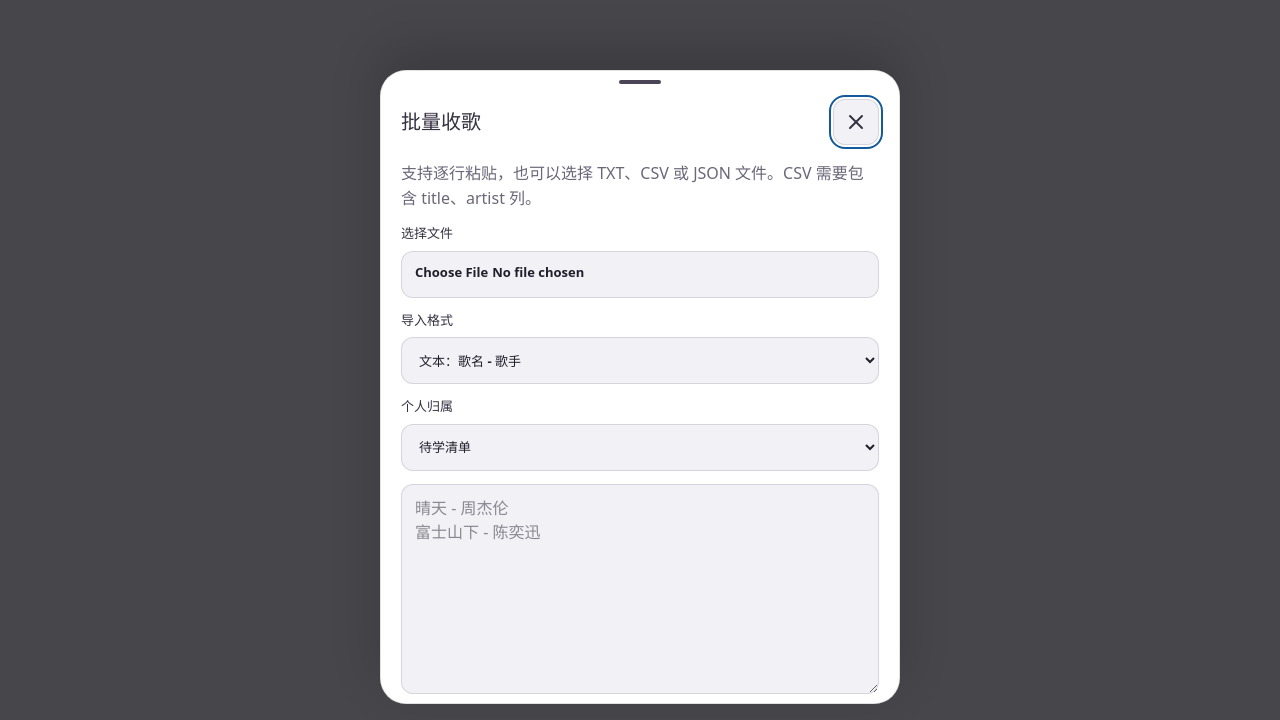
Test case: 基础界面组件 › 批量导入展示异步任务完成结果
The image size is (1280, 720).
Type "晴天 - 周杰伦" into the text box with class "import-area" at (640, 588), box [401,484,879,694]
(page scrolled)
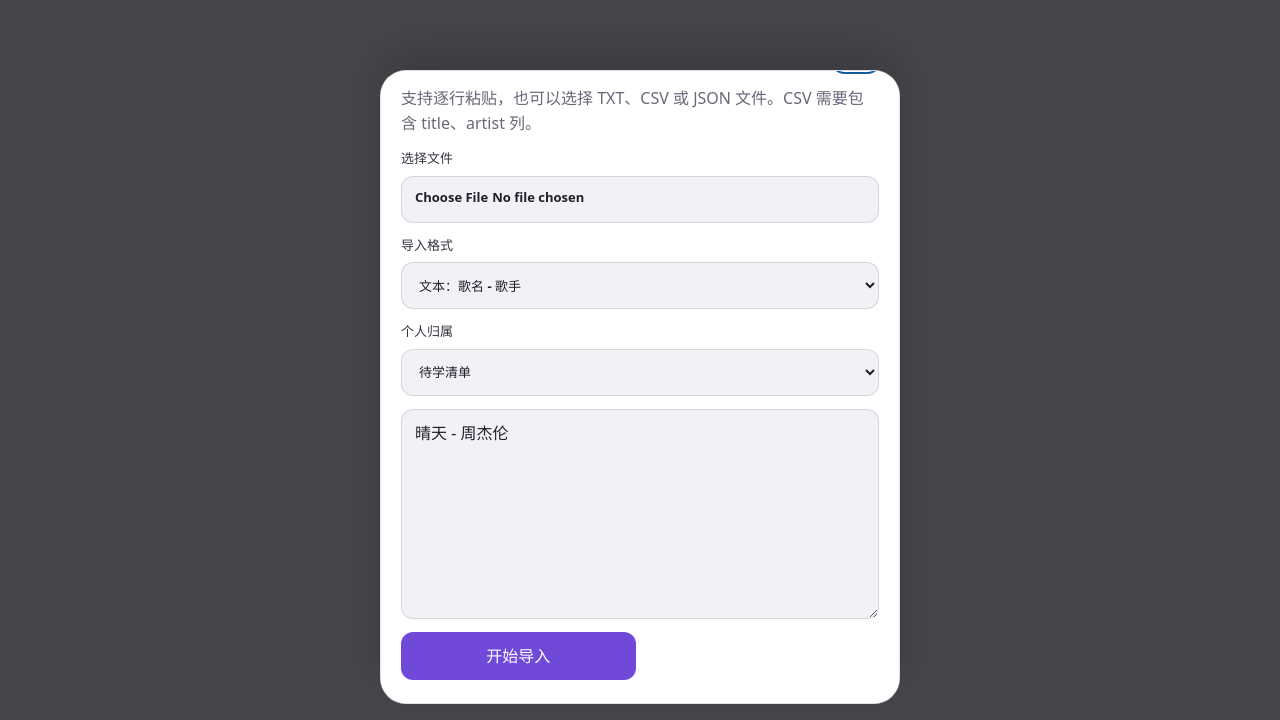
Click the button "开始导入" at (518, 656), box [401,632,636,680]
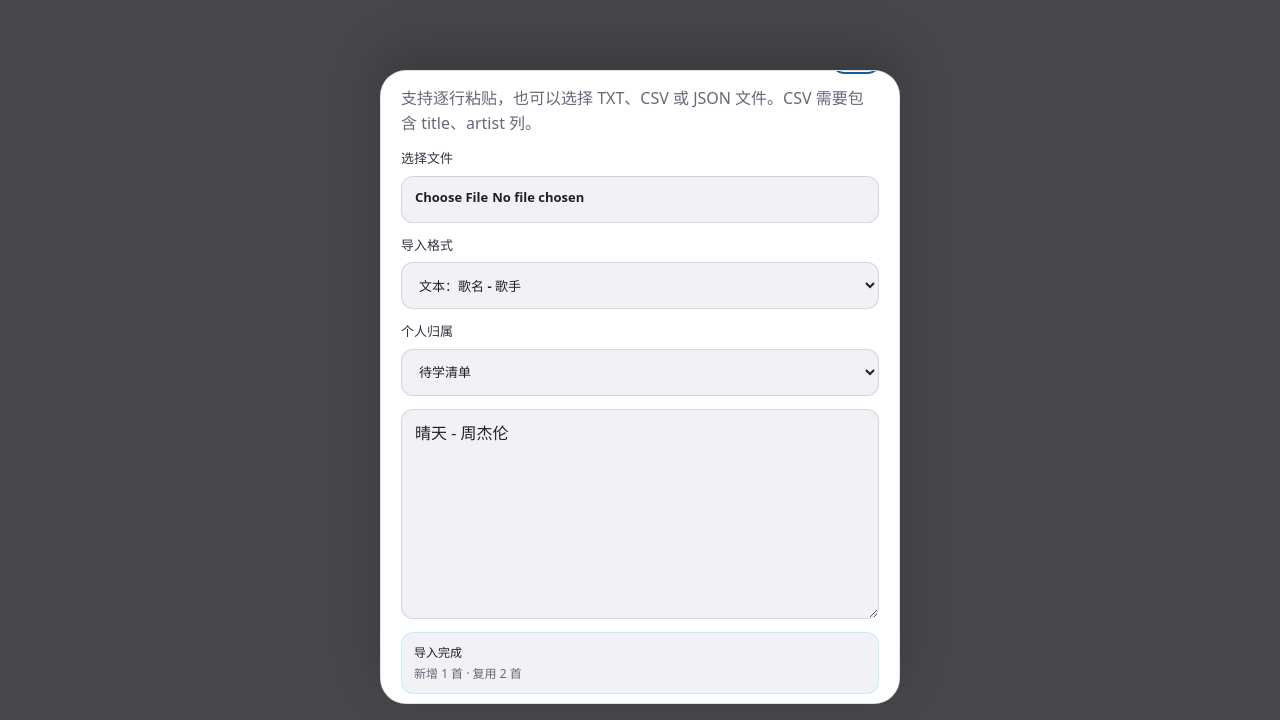
Expected: the text "导入完成" is shown, [414,644,462,660]
Expected: the text "新增 1 首 · 复用 2 首" is shown, [414,665,522,682]
